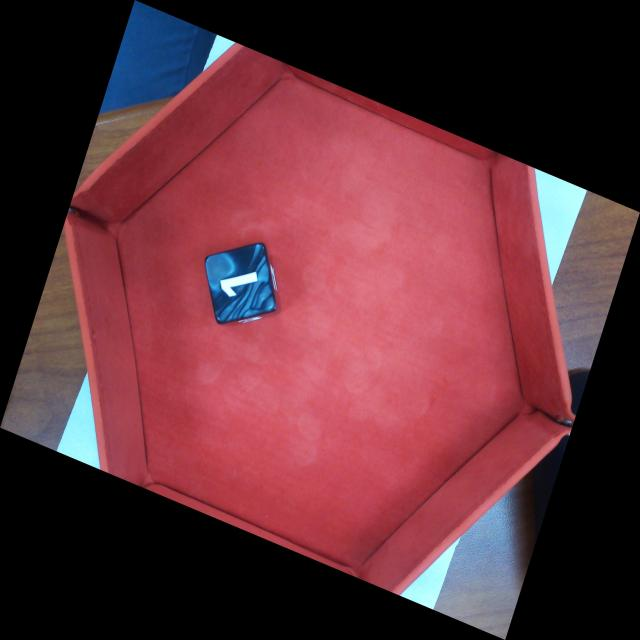dice: (207, 244, 277, 322)
